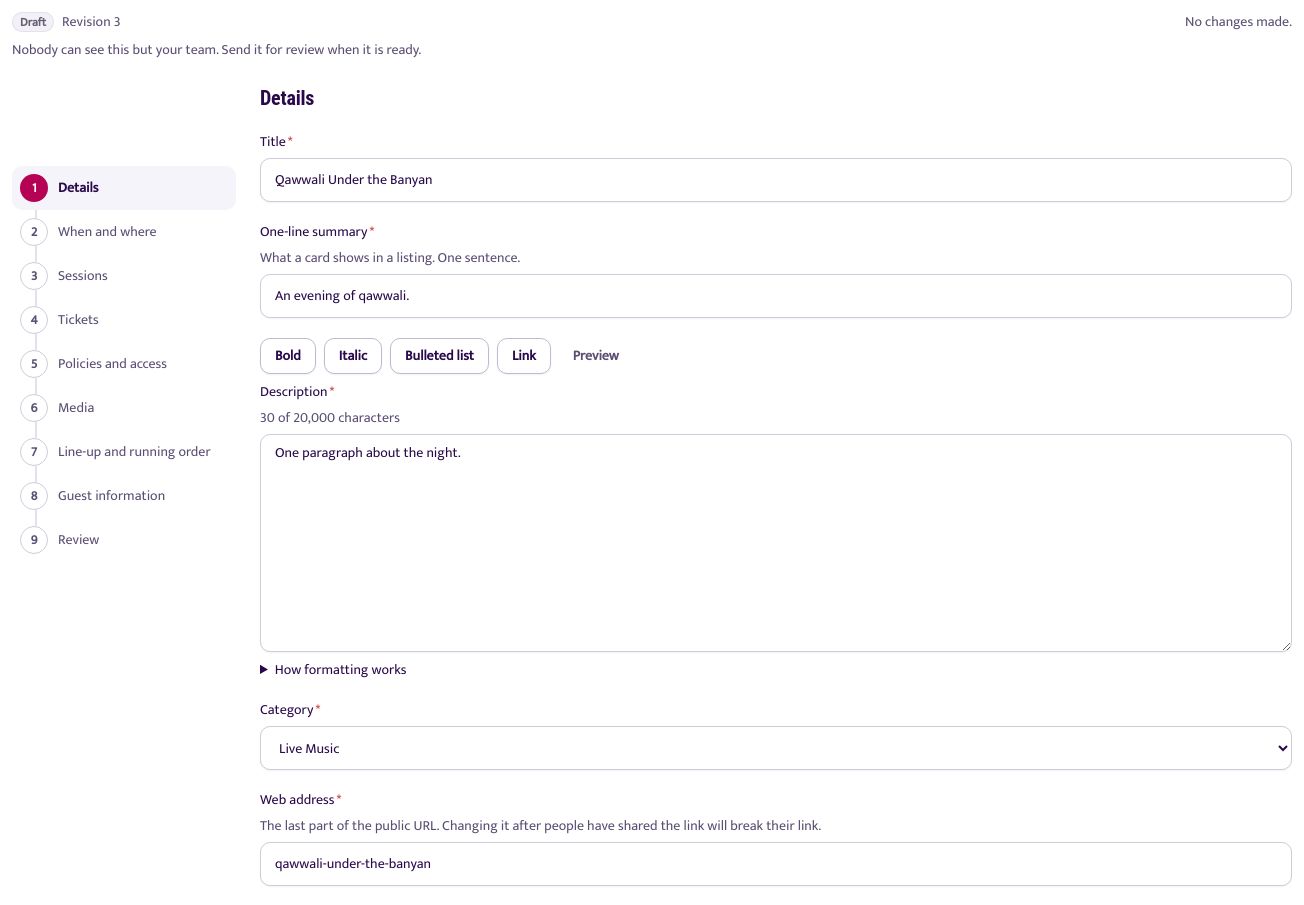
Test case: the steps › are real buttons a keyboard can reach
Click the button "2 When and where" at (124, 232), box [12,210,236,254]
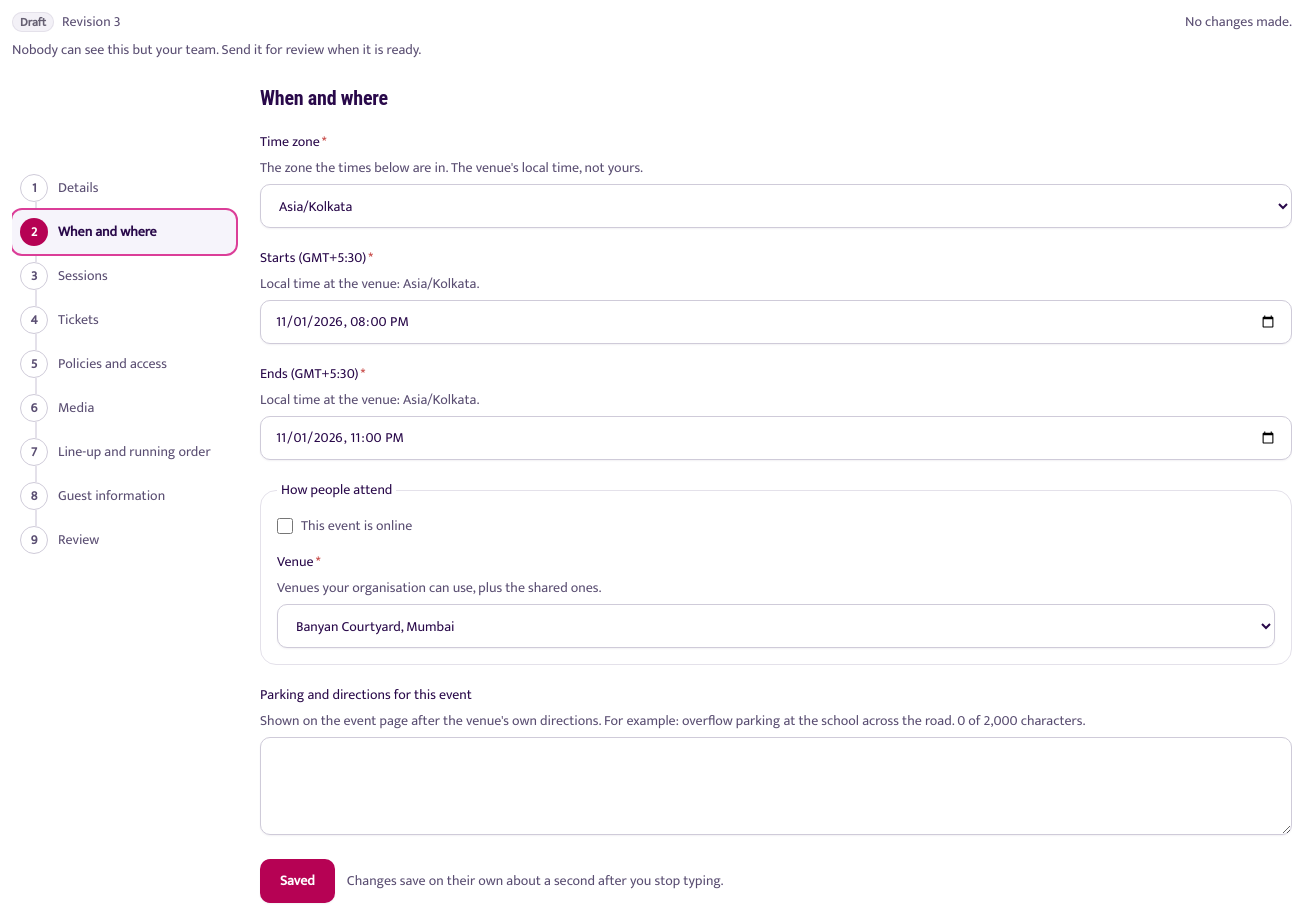
Expected: the heading "When and where" is shown, [260,86,388,110]
